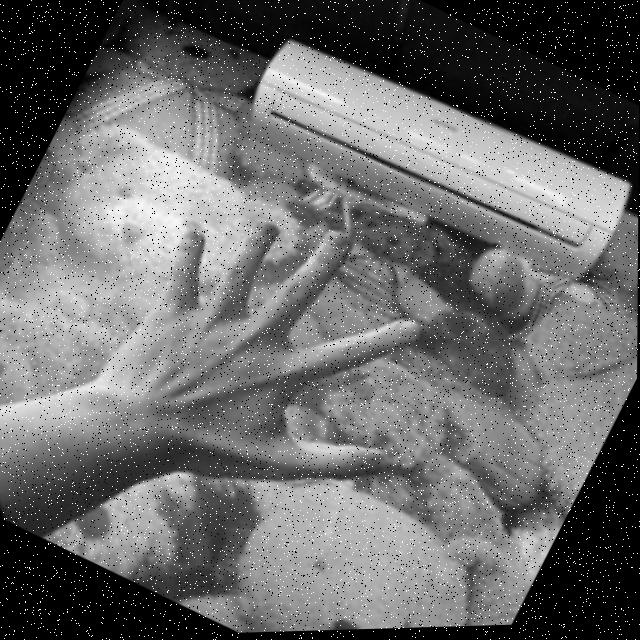hand: (78, 162, 478, 566)
